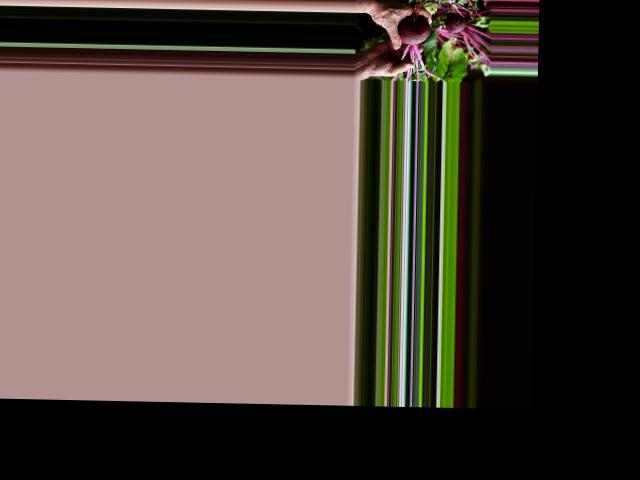beet: (395, 14, 448, 81)
